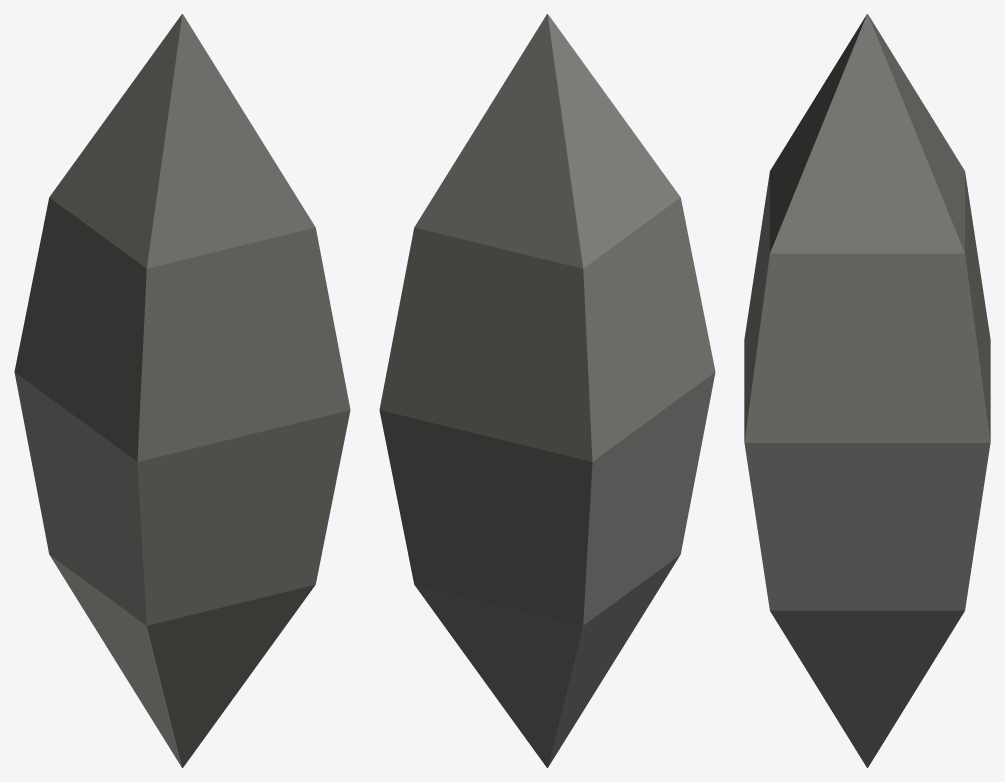
Rendered from CRYSTAL.fbx.
The picture shows the model from 3 angles, left to right: view 1: azimuth 30°, elevation 25°; view 2: azimuth 150°, elevation 25°; view 3: azimuth 270°, elevation 25°; orthographic projection.
Parts seen in each view (by area): view 1: pCube13; view 2: pCube13; view 3: pCube13.
Boxes of the visible parts, x1=… form: pCube13: x1=14, y1=14, x2=350, y2=767; pCube13: x1=379, y1=14, x2=715, y2=767; pCube13: x1=744, y1=14, x2=990, y2=767.
Size of the model in its own units: 5.04 by 17.04 by 5.04.
Materials: 1 (1 with a texture image).
